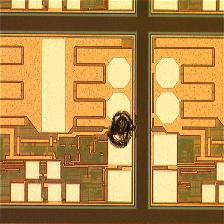PARTICLE: (104, 107, 140, 152)
